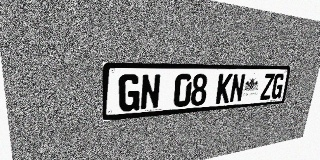0: (173, 74, 193, 108)
8: (190, 74, 209, 106)
G: (118, 74, 141, 112), (270, 73, 285, 99)
K: (215, 74, 233, 104)
N: (140, 74, 161, 110), (229, 74, 246, 103)
Z: (260, 73, 275, 100)
